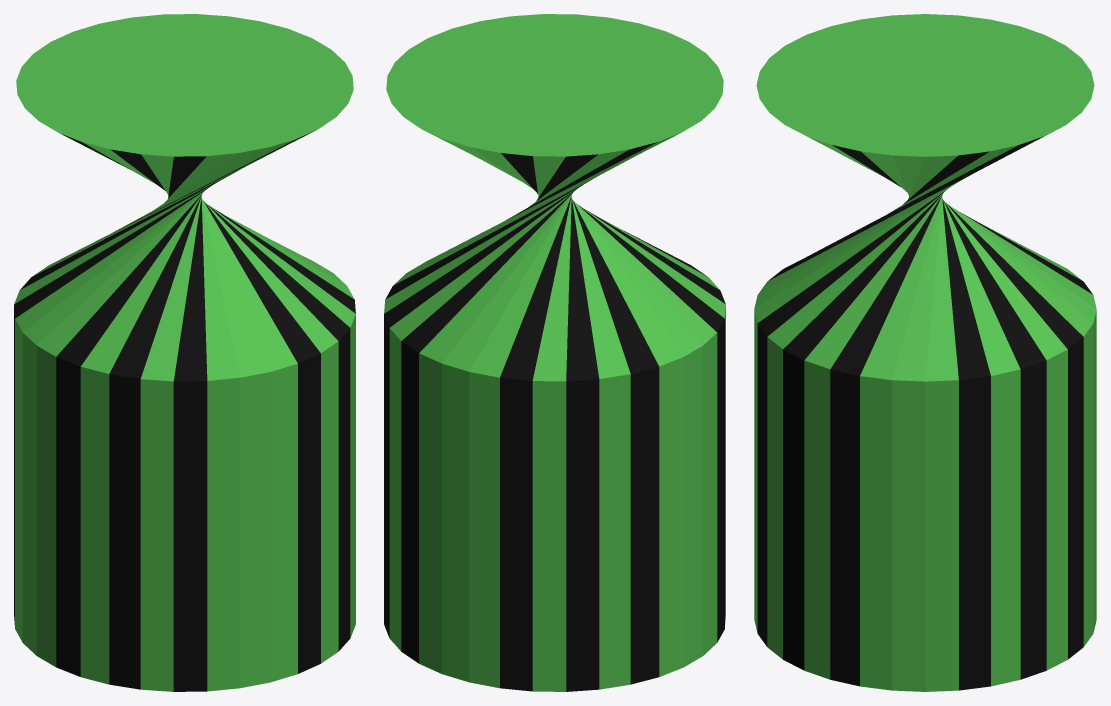
The model's file is CilinderXP.glb.
3 renders of one model, left to right at view 1: azimuth 30°, elevation 25°; view 2: azimuth 150°, elevation 25°; view 3: azimuth 270°, elevation 25°, orthographic.
Visible parts, largest first — view 1: Cylinder; view 2: Cylinder; view 3: Cylinder.
Boxes of the visible parts, x1=… form: Cylinder: x1=14, y1=14, x2=355, y2=691; Cylinder: x1=384, y1=14, x2=725, y2=691; Cylinder: x1=754, y1=14, x2=1096, y2=691.
Size of the model in its own units: 0.6672 by 1.15 by 0.6672.
